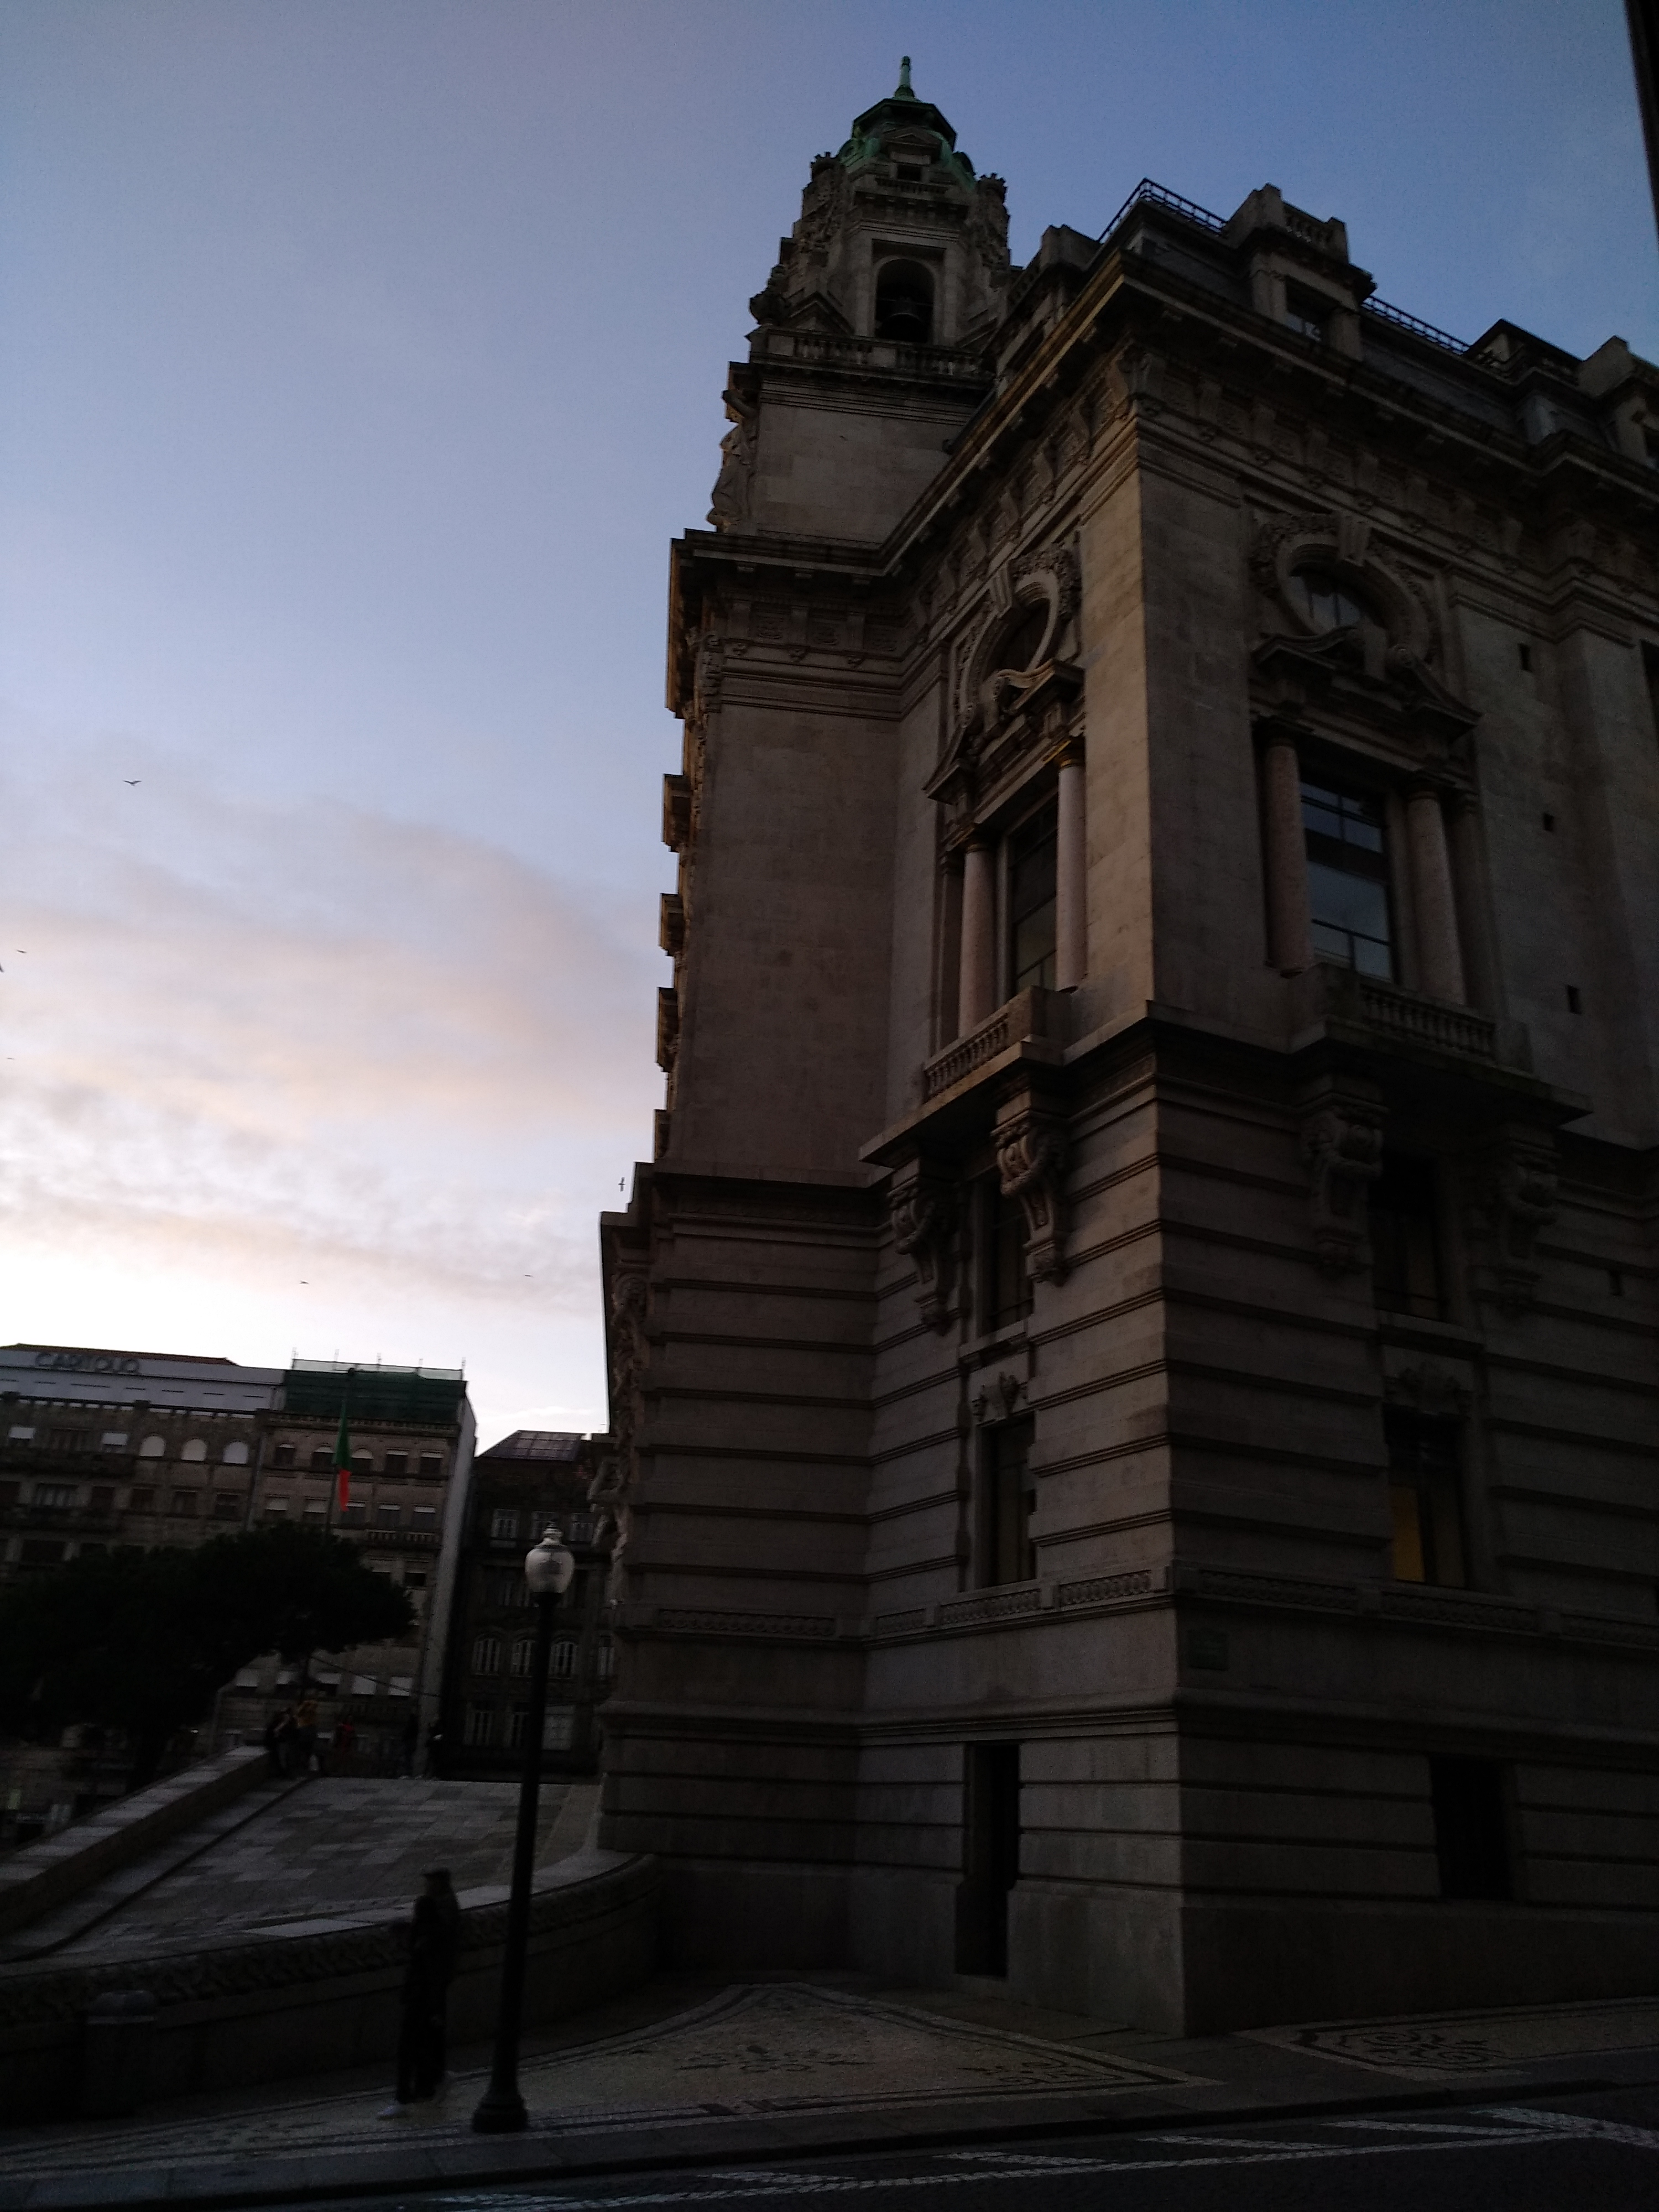camara: (570, 38, 1089, 1996)
